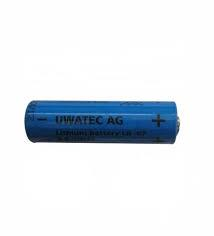AA: (24, 99, 180, 144)
